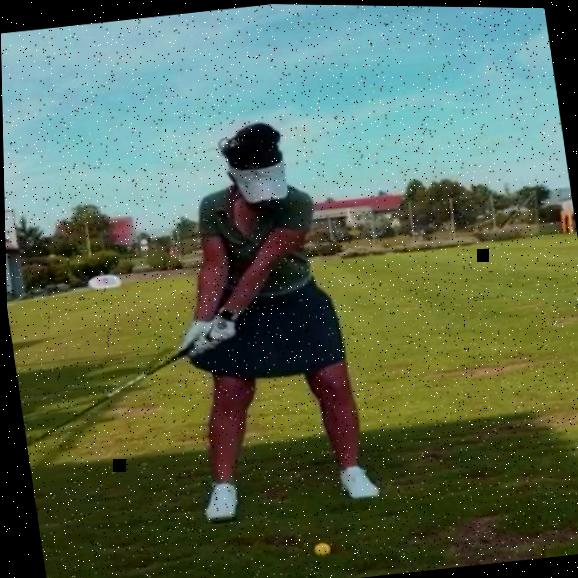GolfBall: (308, 539, 331, 556)
